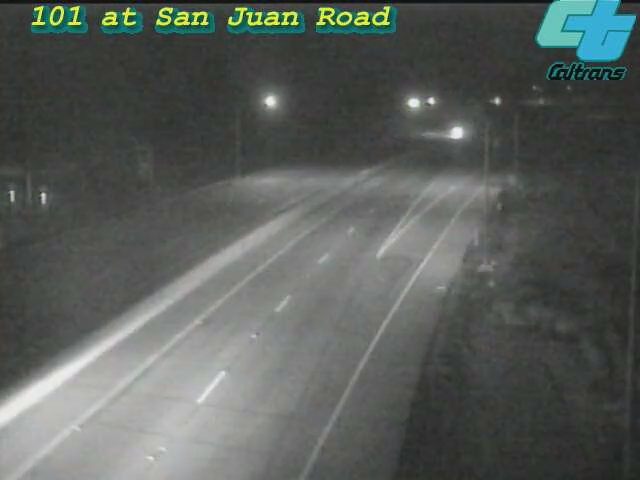vehicle: (434, 108, 484, 158)
